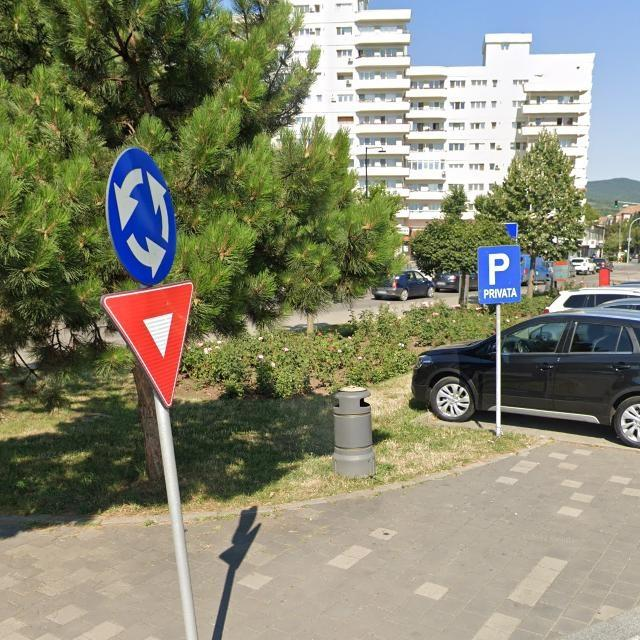prio_give_way: (100, 280, 195, 411)
